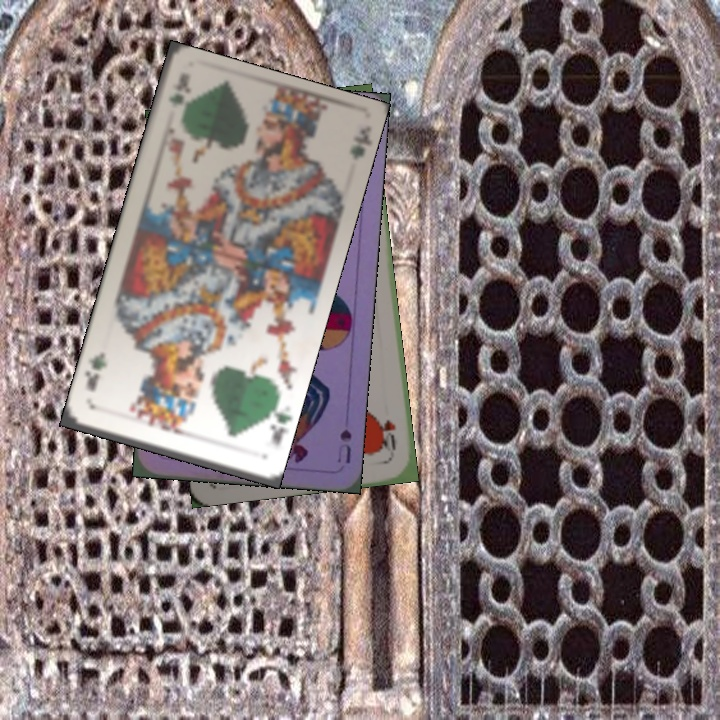GK: (262, 399, 291, 448), (165, 78, 191, 110)
HO: (376, 415, 399, 453)
SU: (333, 425, 354, 466)
